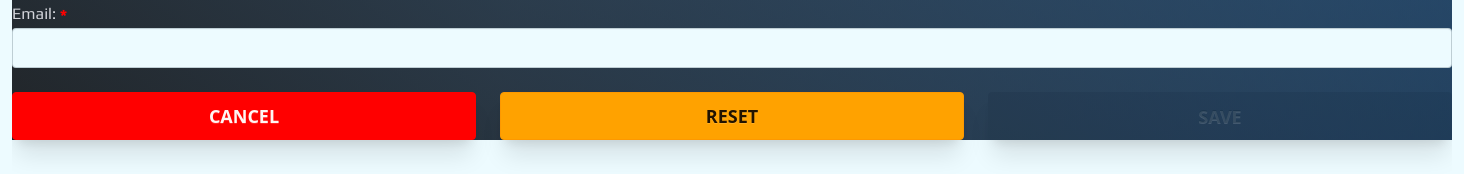
Scenario: CreateRosterPersonnelForm › shows a required error when the email field is blurred empty
Click the field at (732, 48), box [12,28,1452,68]
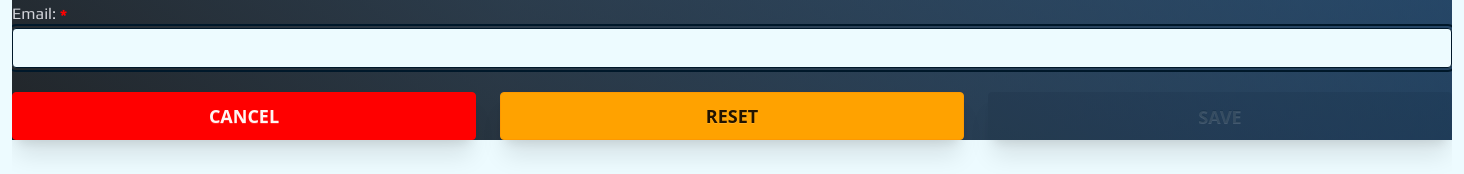
Press Tab
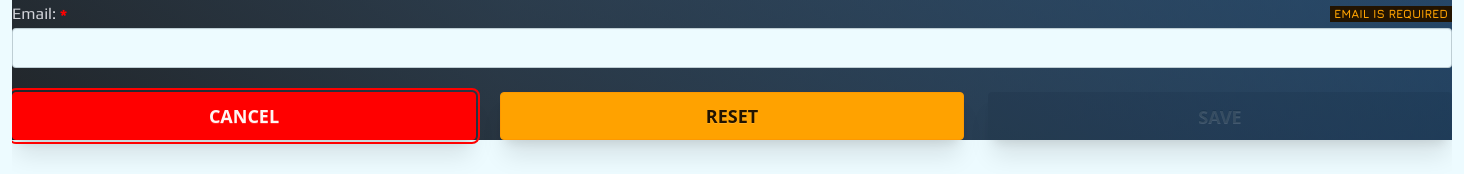
Result: the text "Email is required" is shown at [1330,6,1452,22]
